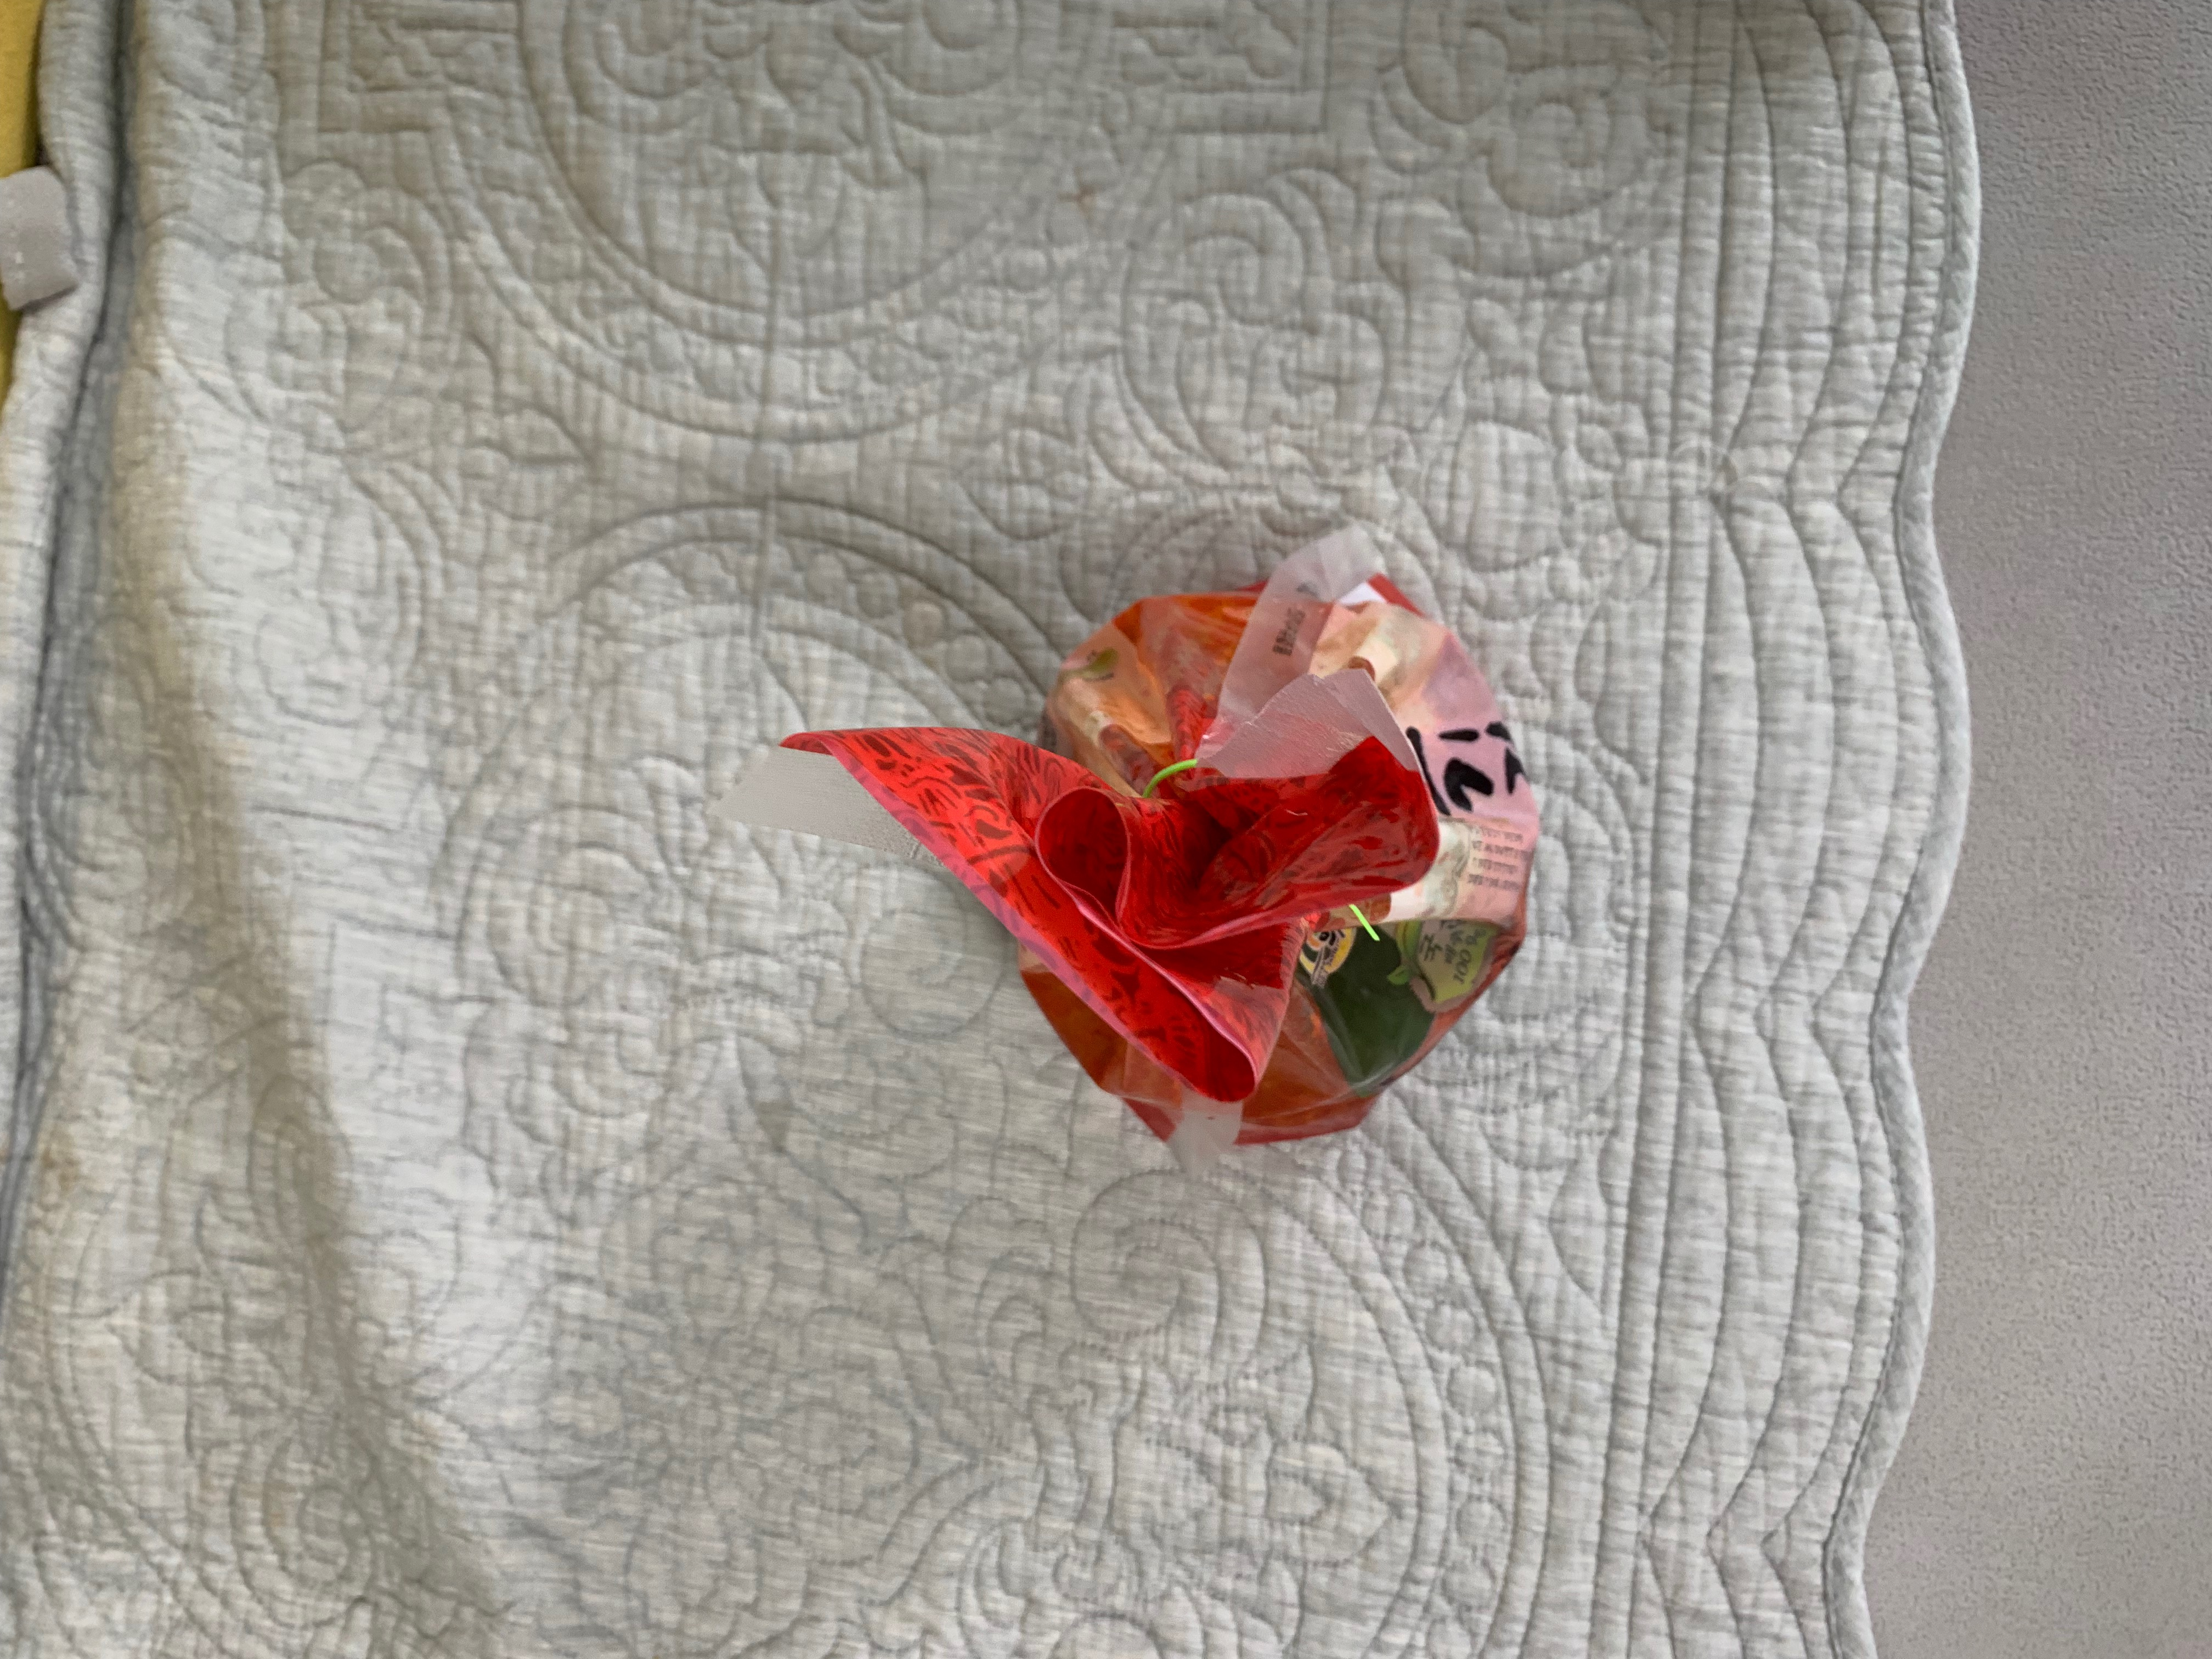kimchi: (935, 579, 1536, 1157)
